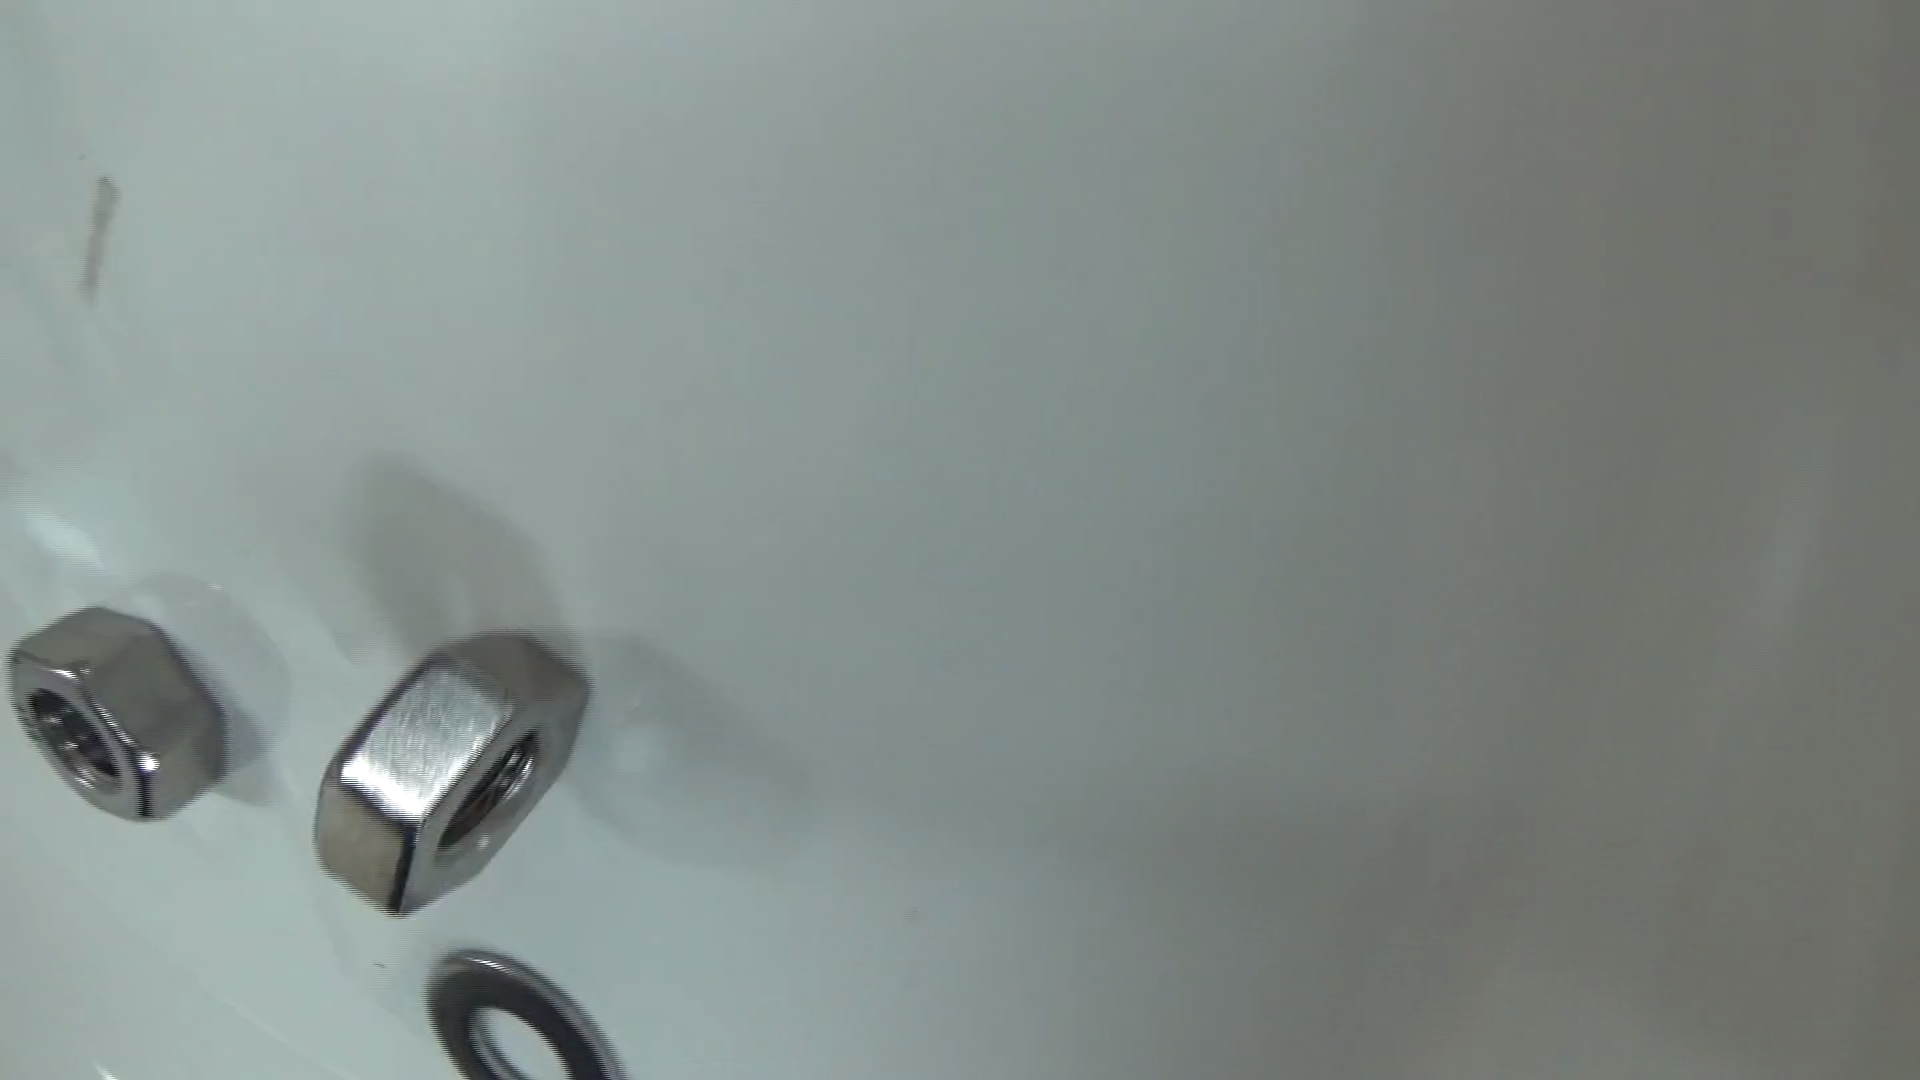nut: (295, 613, 607, 934), (0, 578, 266, 837)
washer: (390, 924, 658, 1080)
